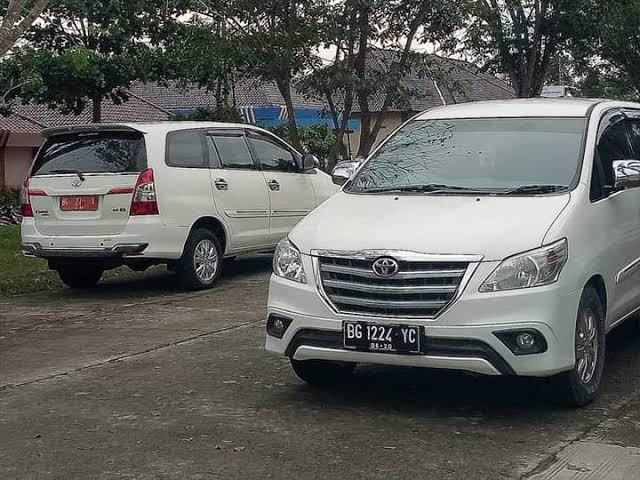plate: (342, 317, 423, 356)
